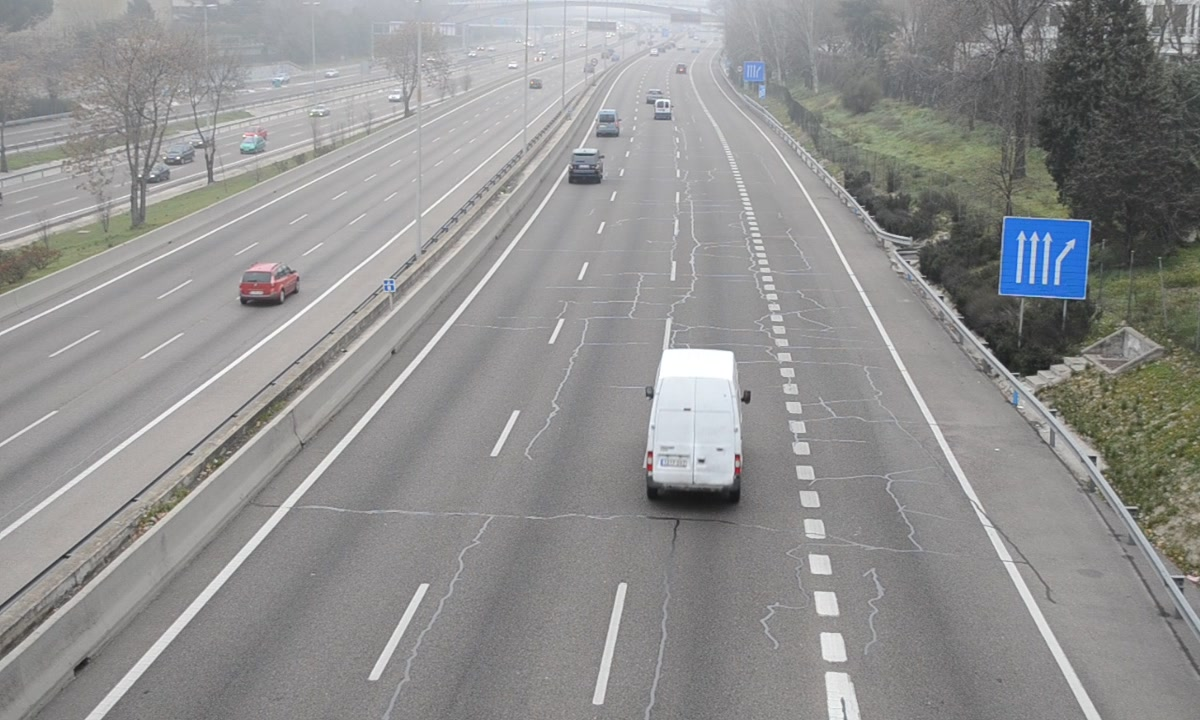car: (568, 148, 604, 185)
van: (644, 350, 745, 502), (594, 108, 620, 139)
